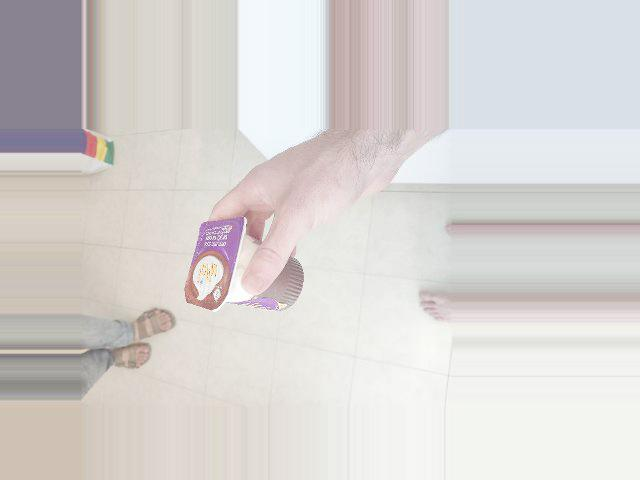milky: (175, 231, 263, 355)
